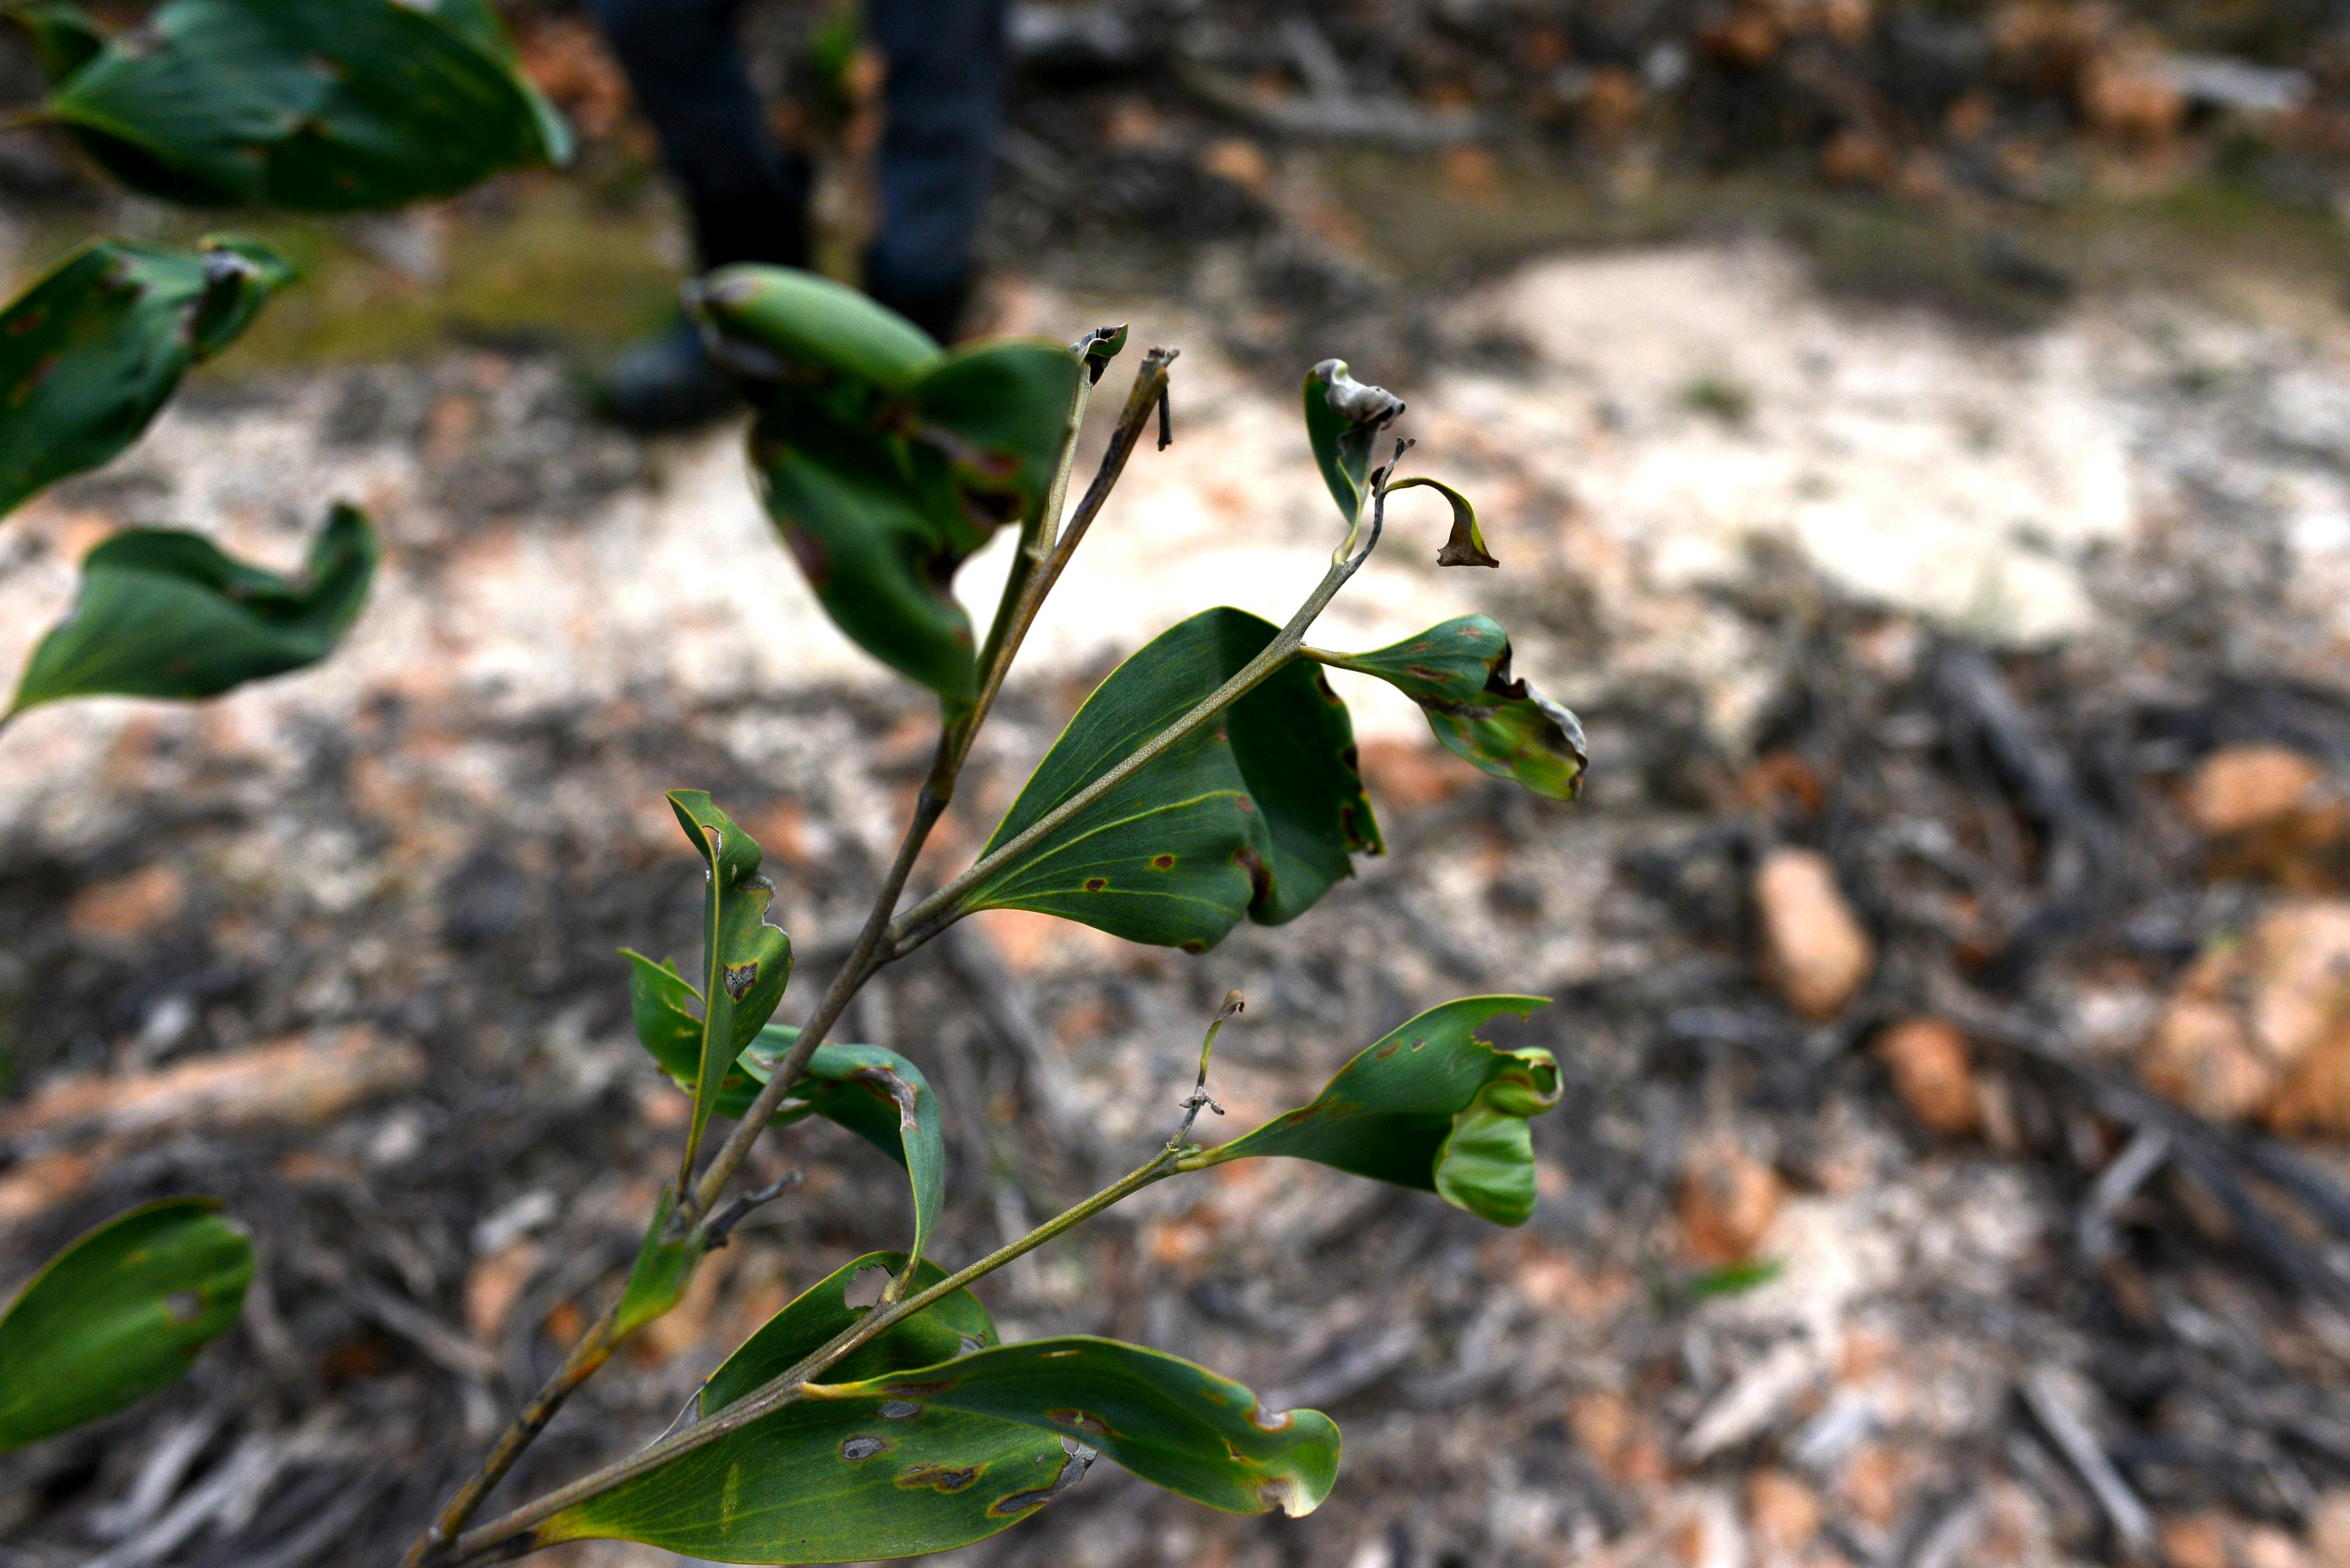Pasalora: (527, 1258, 1400, 1561), (696, 259, 1129, 721), (978, 614, 1384, 941), (609, 945, 962, 1309), (35, 457, 394, 733), (1179, 996, 1582, 1234), (0, 217, 304, 514), (0, 1181, 269, 1445), (623, 779, 779, 1160), (1304, 350, 1501, 583), (1402, 597, 1594, 822)
